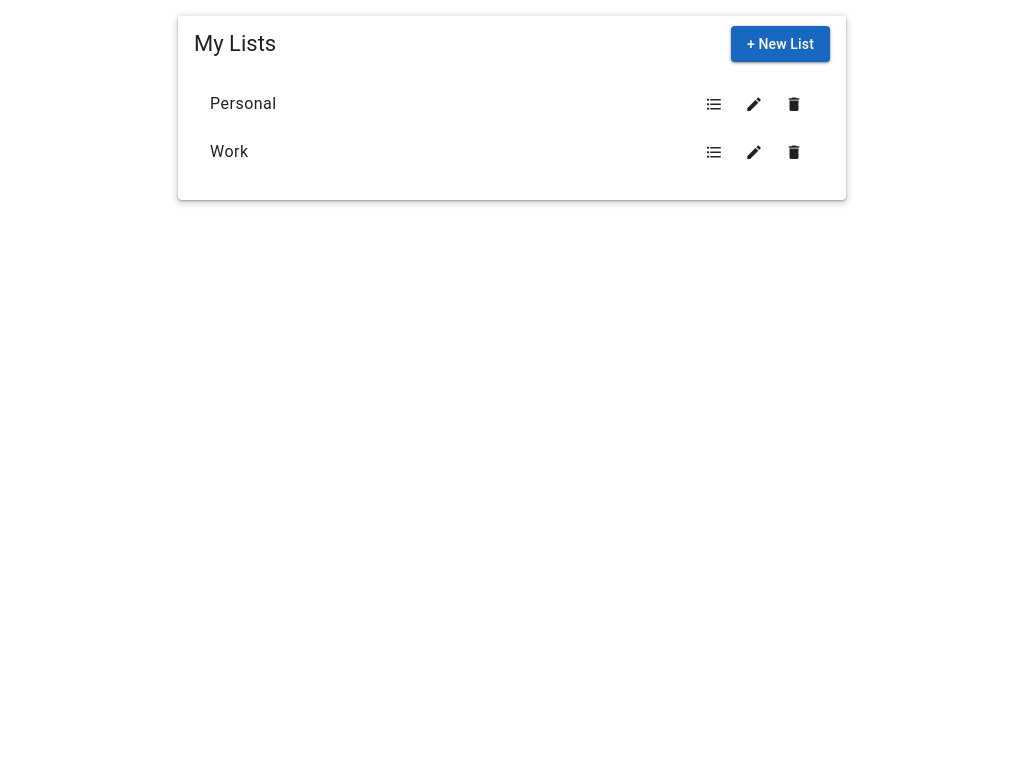
Feature 3 — Todo List Item Management › US-3.2 — View tasks in a list › User opens items for different lists
This screenshot has width=1024, height=768.
Click the button named "Items" in the row of "Personal".
click(714, 104)  # box 694,84 -> 734,124
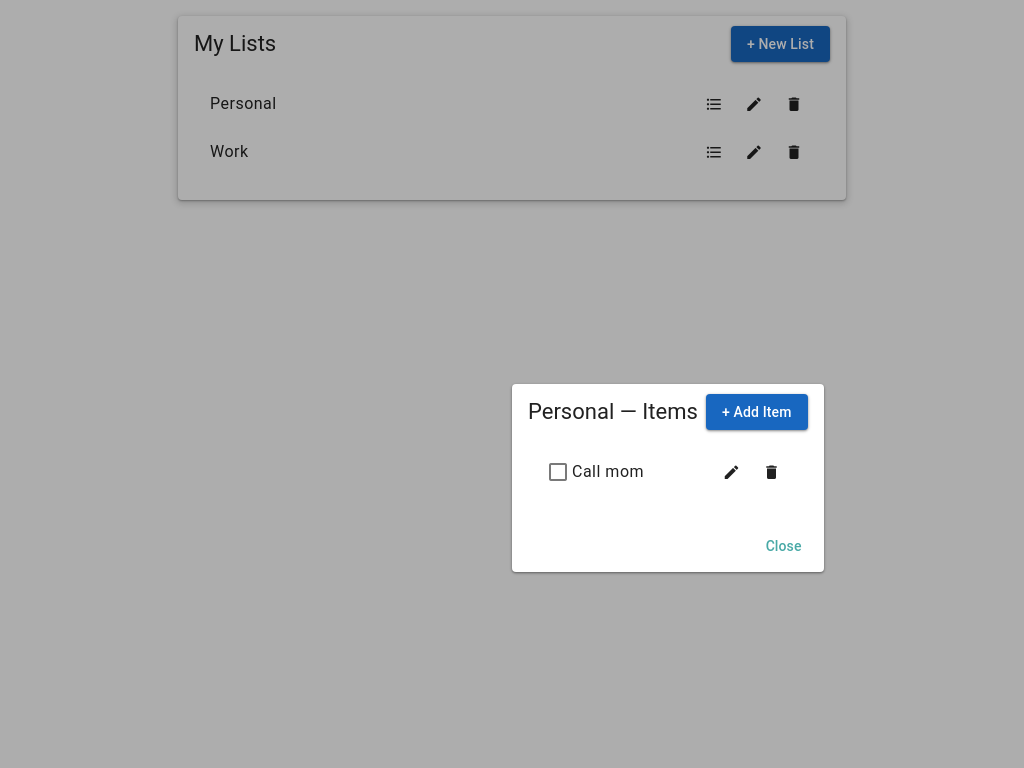
Expected: the text "Email client" is not shown
Now the text "Call mom" is shown, box 572,462 -> 644,481
Click the button "Close".
click(784, 546)  # box 752,528 -> 816,564
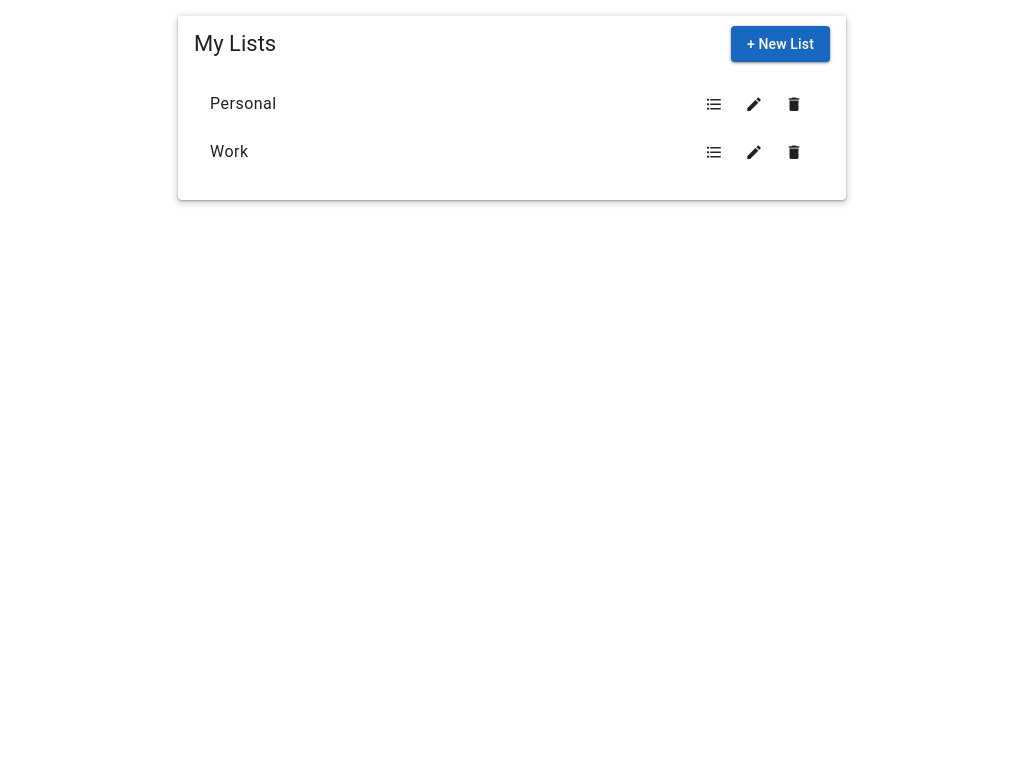
Click the button named "Items" in the row of "Work".
click(714, 152)  # box 694,132 -> 734,172
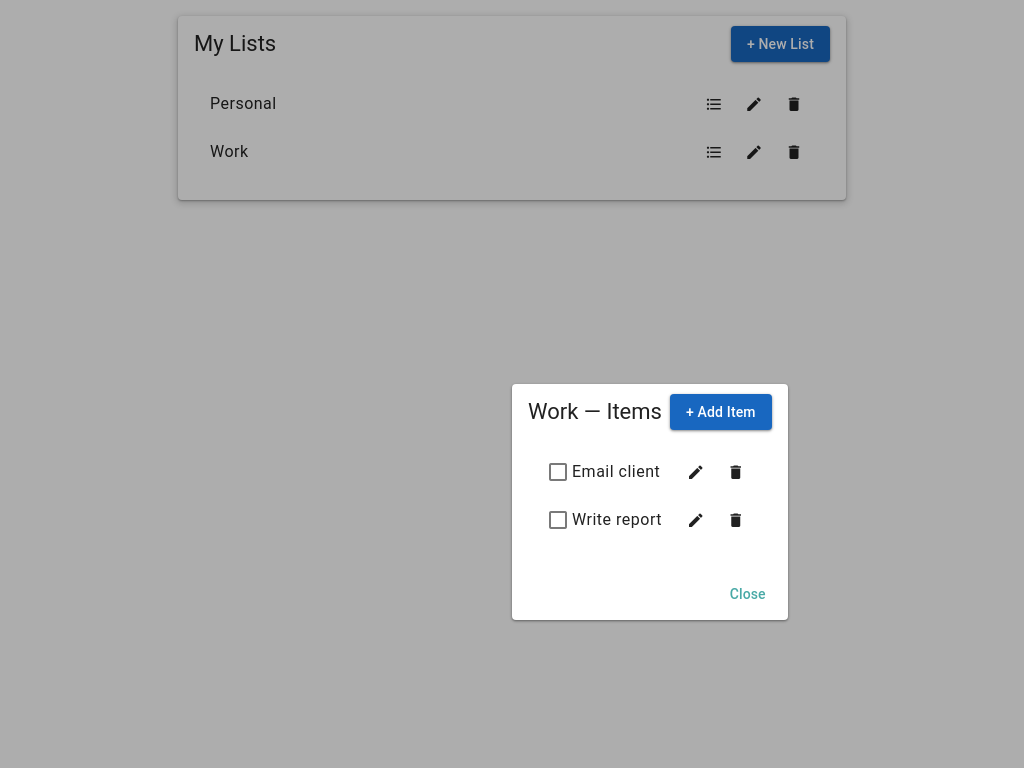
Expected: the text "Call mom" is not shown
Now the text "Email client" is shown, box 572,460 -> 676,484
Now the text "Write report" is shown, box 572,508 -> 676,532
